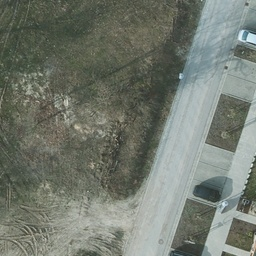car: (194, 185, 220, 204), (236, 26, 255, 45)
